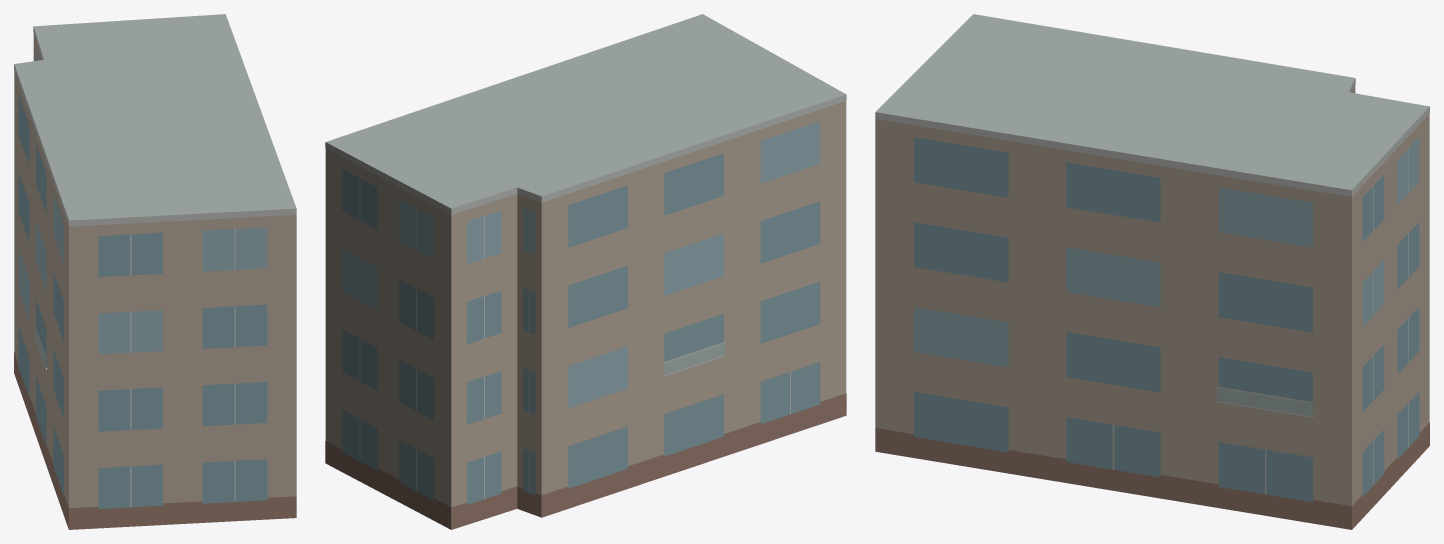
File: survey-upis-32672132.glb
The picture shows the model from 3 angles, left to right: view 1: azimuth 30°, elevation 25°; view 2: azimuth 150°, elevation 25°; view 3: azimuth 270°, elevation 25°; orthographic projection. The views are drawn at different scales.
Parts seen in each view (by area): view 1: survey-upis-32672132.tmp; view 2: survey-upis-32672132.tmp; view 3: survey-upis-32672132.tmp.
Part boxes in pixels (x1=…): survey-upis-32672132.tmp: x1=14, y1=14, x2=296, y2=529; survey-upis-32672132.tmp: x1=325, y1=14, x2=846, y2=529; survey-upis-32672132.tmp: x1=875, y1=14, x2=1429, y2=529.
Size of the model in its own units: 13.59 by 12.2 by 18.06.
